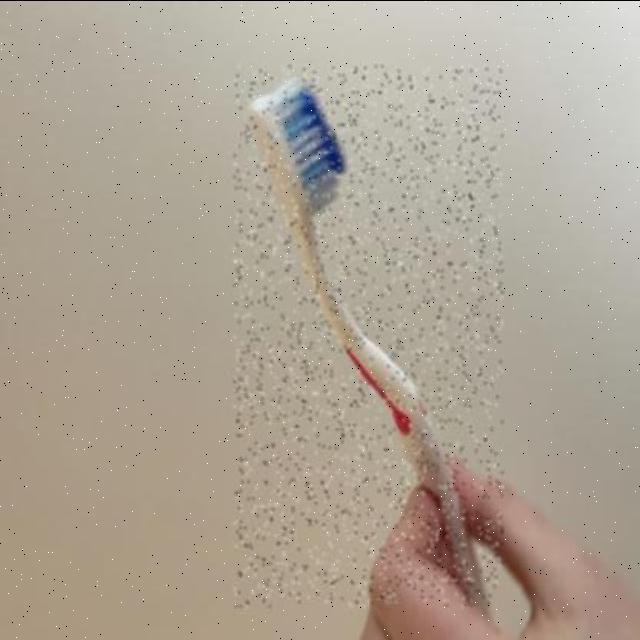toothbrush: (233, 64, 502, 606)
